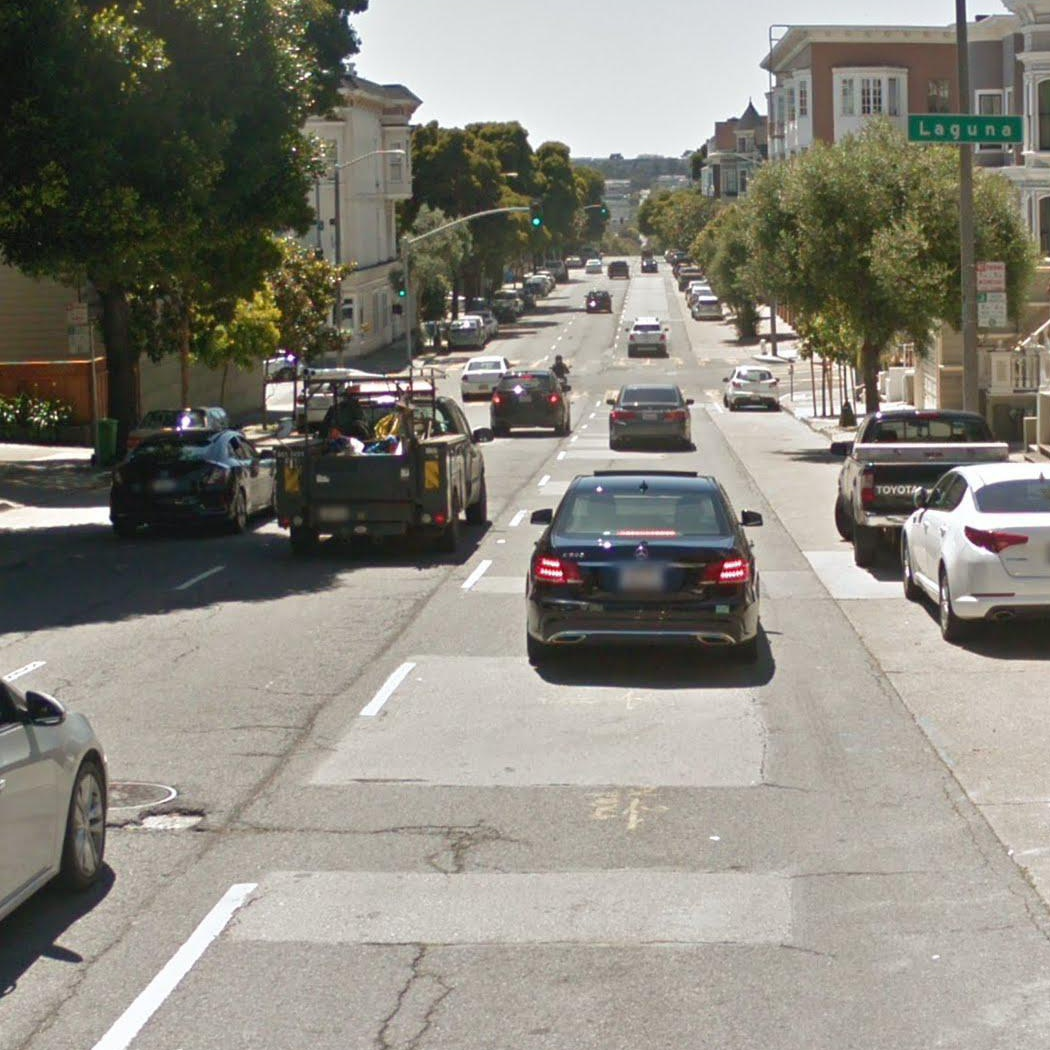2 Hour Parking: (976, 289, 1010, 329), (67, 330, 91, 355)
No Parking: (976, 259, 1007, 291), (62, 302, 90, 326)
